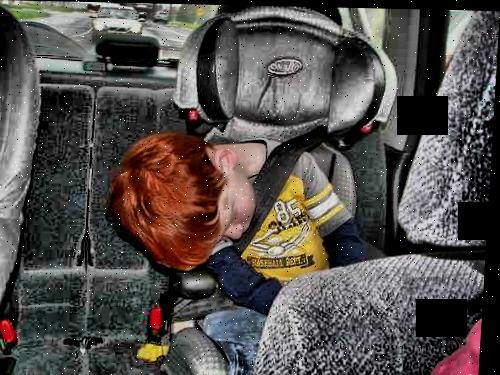seatbelt: (223, 109, 311, 271)
